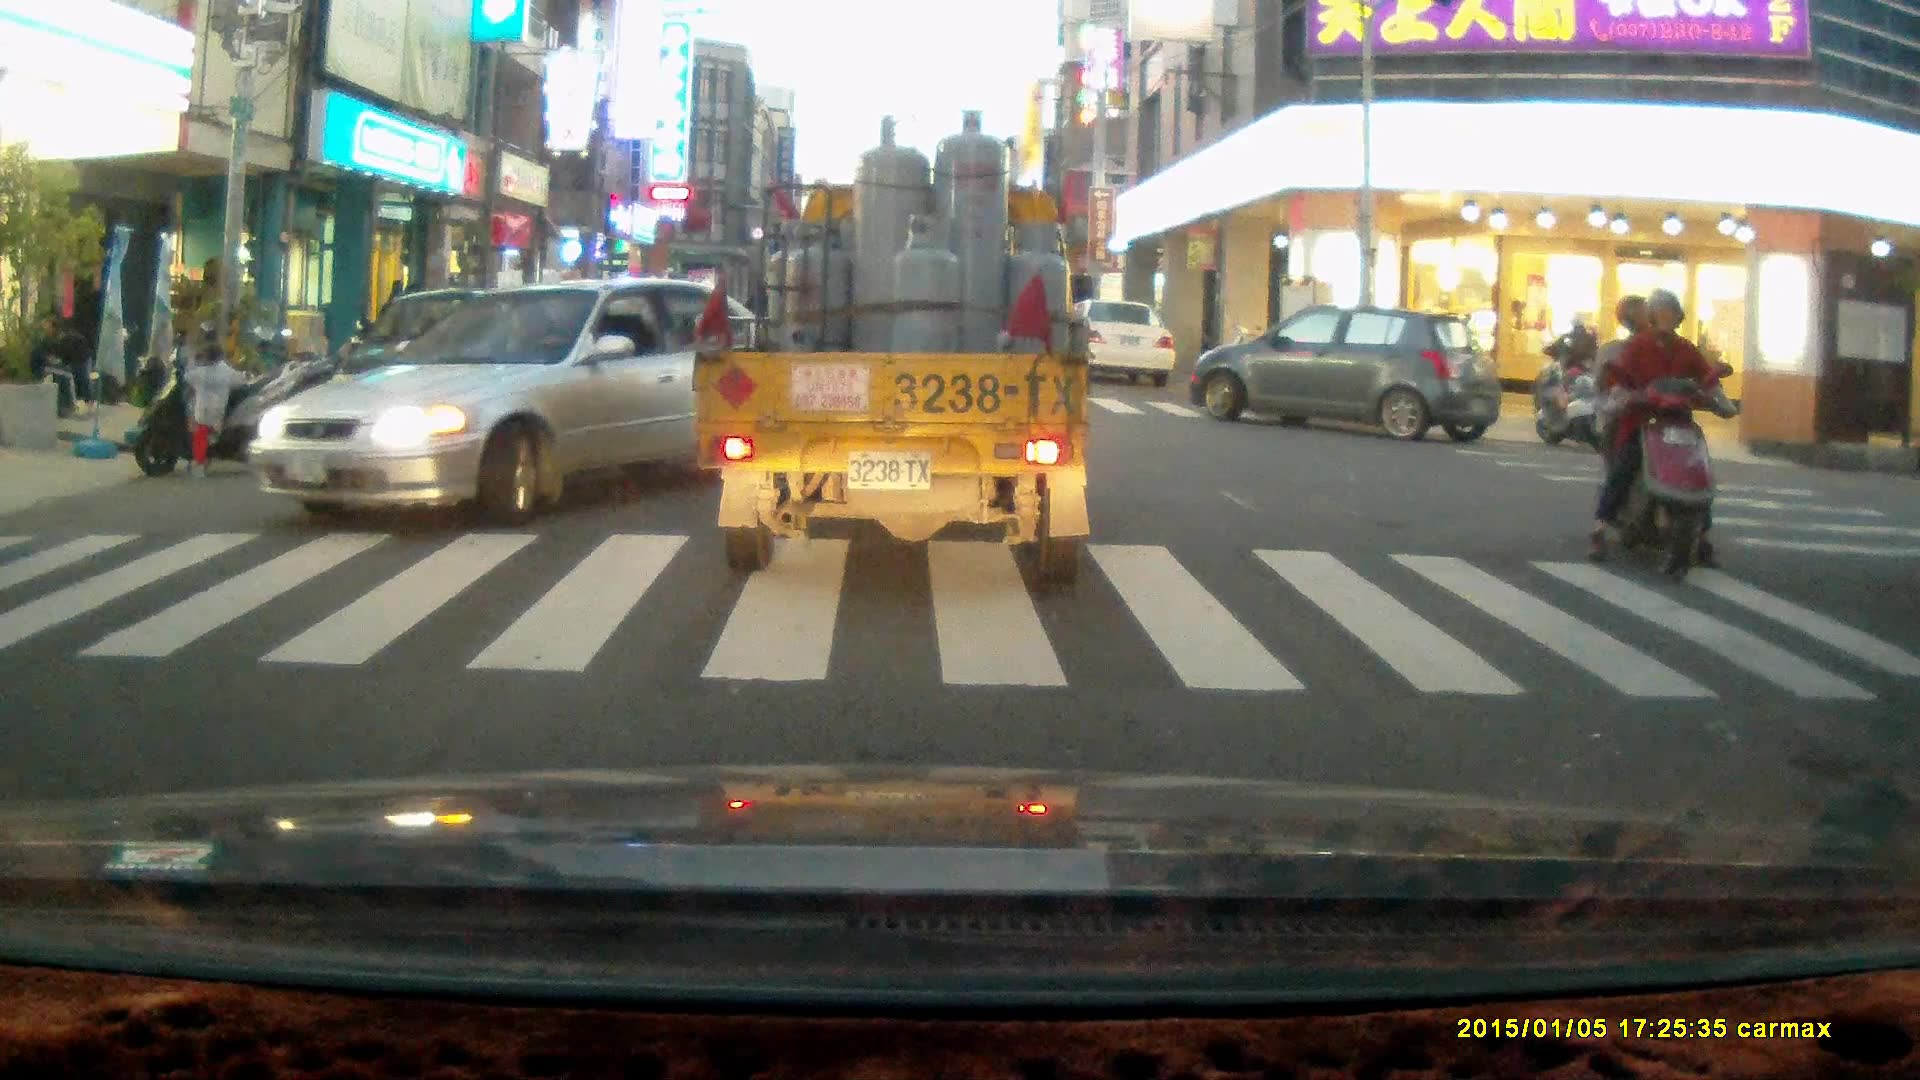pedestrian: (182, 341, 251, 480)
rider: (1582, 287, 1732, 579), (1536, 307, 1610, 429)
vehicle: (690, 109, 1092, 592), (250, 277, 805, 533), (1190, 306, 1501, 444), (1060, 299, 1183, 382)
